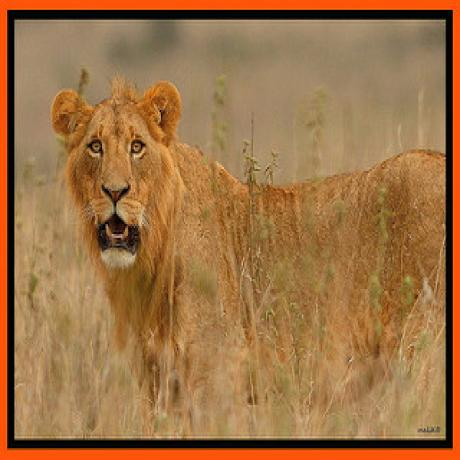Lion: (48, 71, 446, 390)
